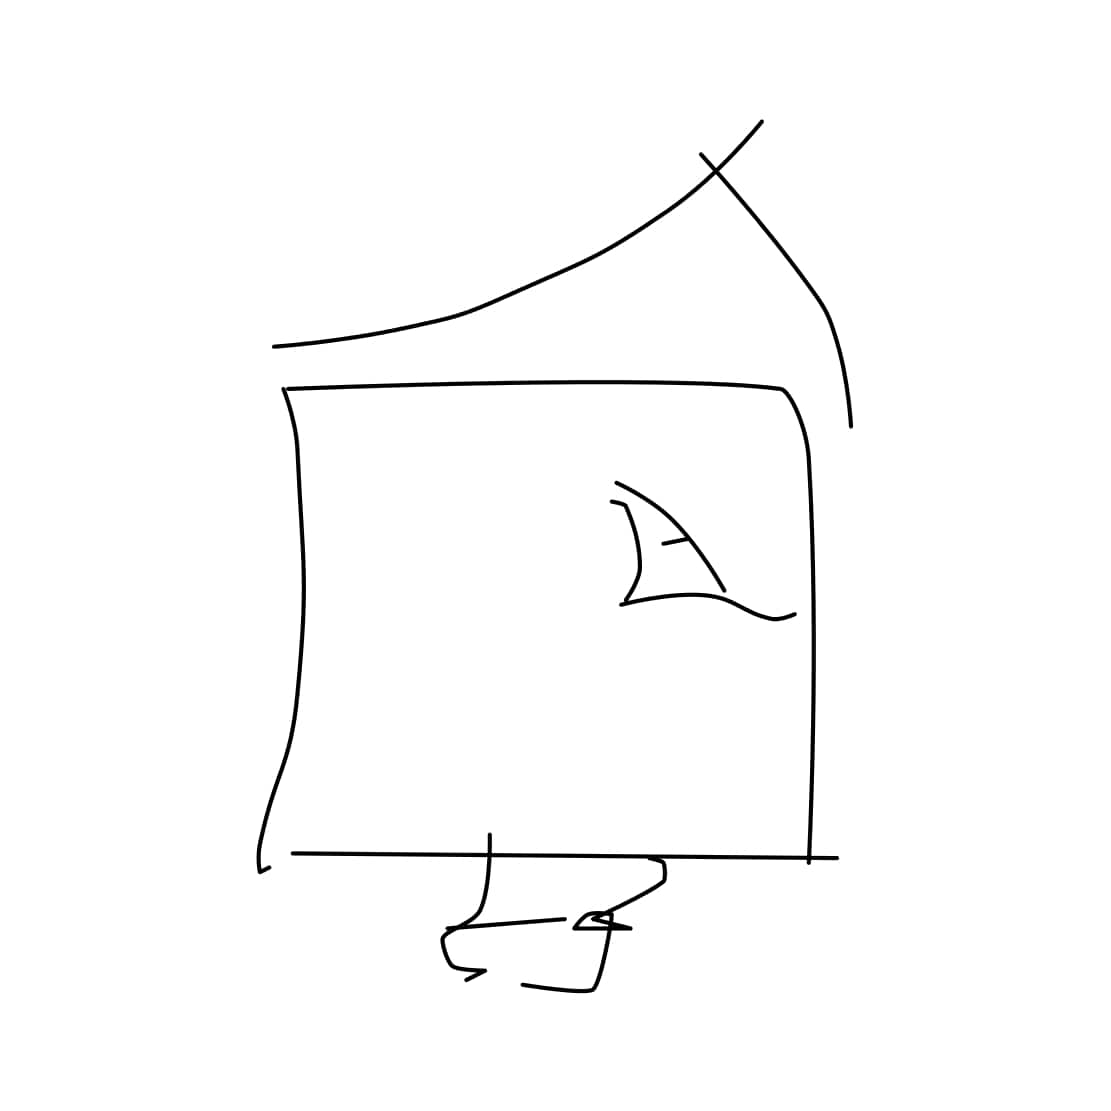House: (186, 109, 907, 992)
